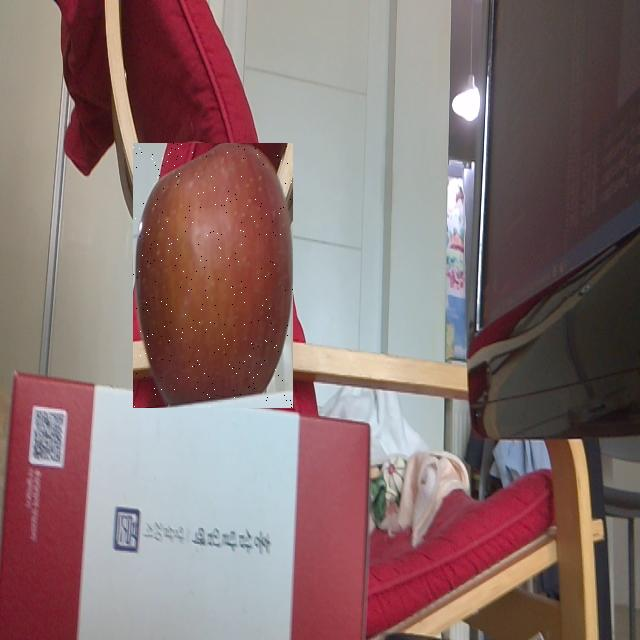apple: (133, 143, 293, 408)
